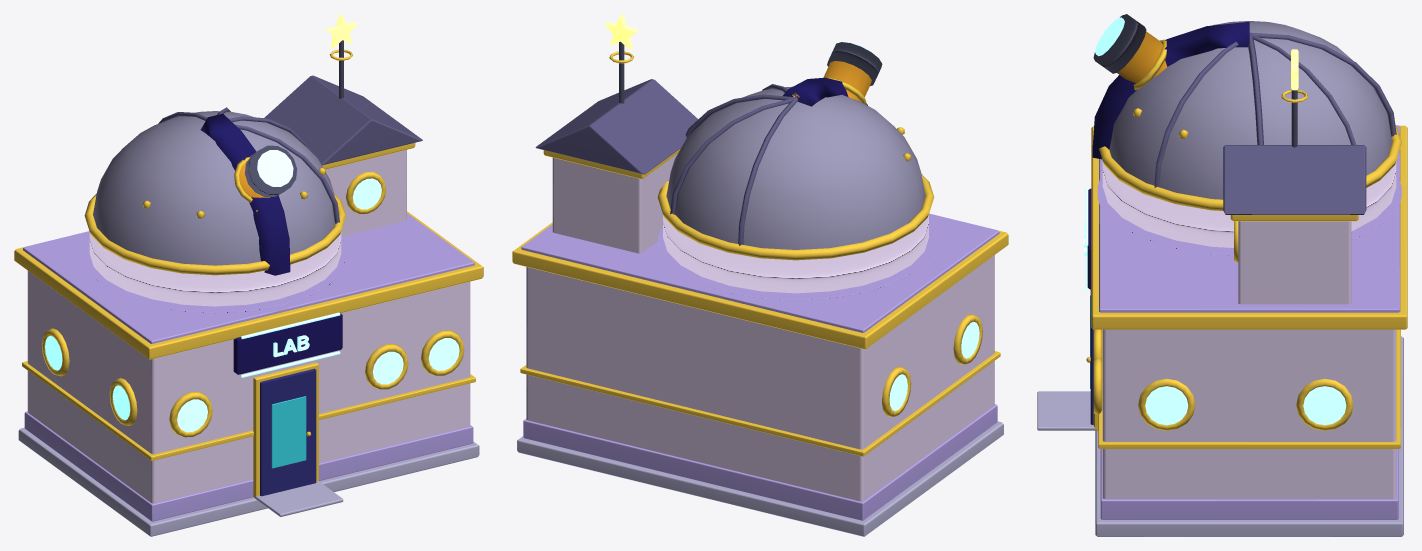
File: lab.glb
3 renders of one model, left to right at view 1: azimuth 30°, elevation 25°; view 2: azimuth 150°, elevation 25°; view 3: azimuth 270°, elevation 25°, orthographic. The views are drawn at different scales.
Parts seen in each view (by area): view 1: Lab.001; view 2: Lab.001; view 3: Lab.001.
Boxes of the visible parts, x1,y1,x2,y2 form: Lab.001: [14, 14, 483, 536]; Lab.001: [512, 14, 1008, 536]; Lab.001: [1037, 14, 1407, 536].
Bounding box in the file's own units: 6 × 6.72 × 4.92.
